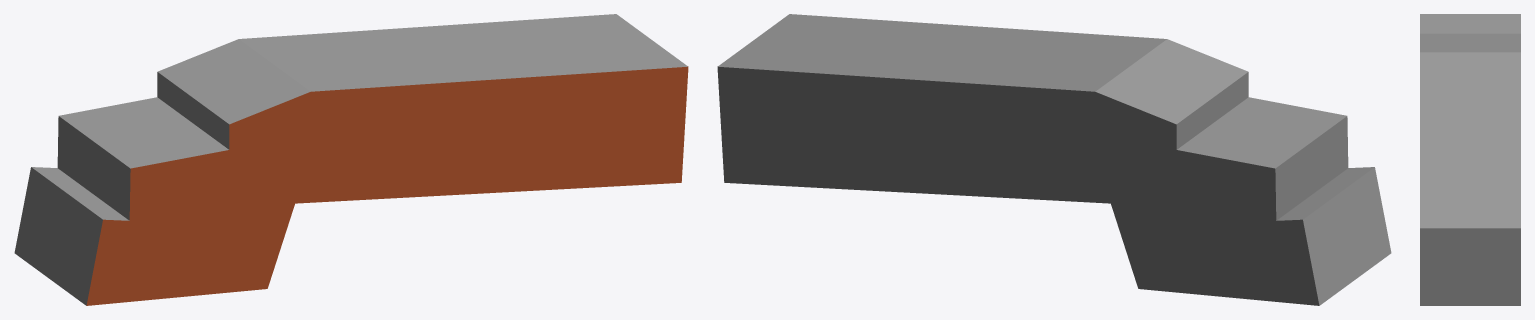
Rendered from construction_0640_assumed_A_Casa_h6m.obj.
3 views of the same model, side by side, from view 1: azimuth 30°, elevation 25°; view 2: azimuth 150°, elevation 25°; view 3: azimuth 270°, elevation 25° (orthographic). The views are drawn at different scales.
Visible parts, largest first — view 1: construction_0640_assumed_A_Casa; view 2: construction_0640_assumed_A_Casa; view 3: construction_0640_assumed_A_Casa.
Boxes of the visible parts, bbox=[...] form: construction_0640_assumed_A_Casa: bbox=[14, 14, 688, 305]; construction_0640_assumed_A_Casa: bbox=[717, 14, 1391, 305]; construction_0640_assumed_A_Casa: bbox=[1420, 14, 1520, 305].
Size of the model in its own units: 28.95 by 8.58 by 6.
